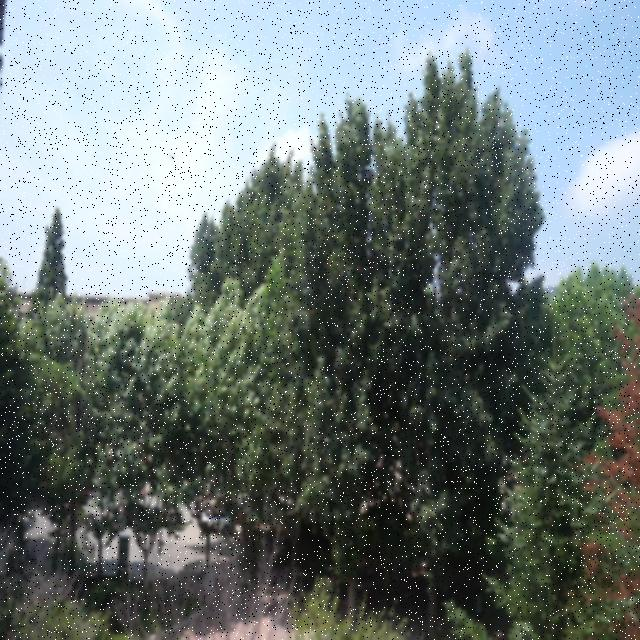UAV: (169, 154, 175, 159)
